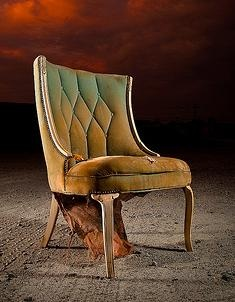obstacle: (33, 56, 193, 277)
